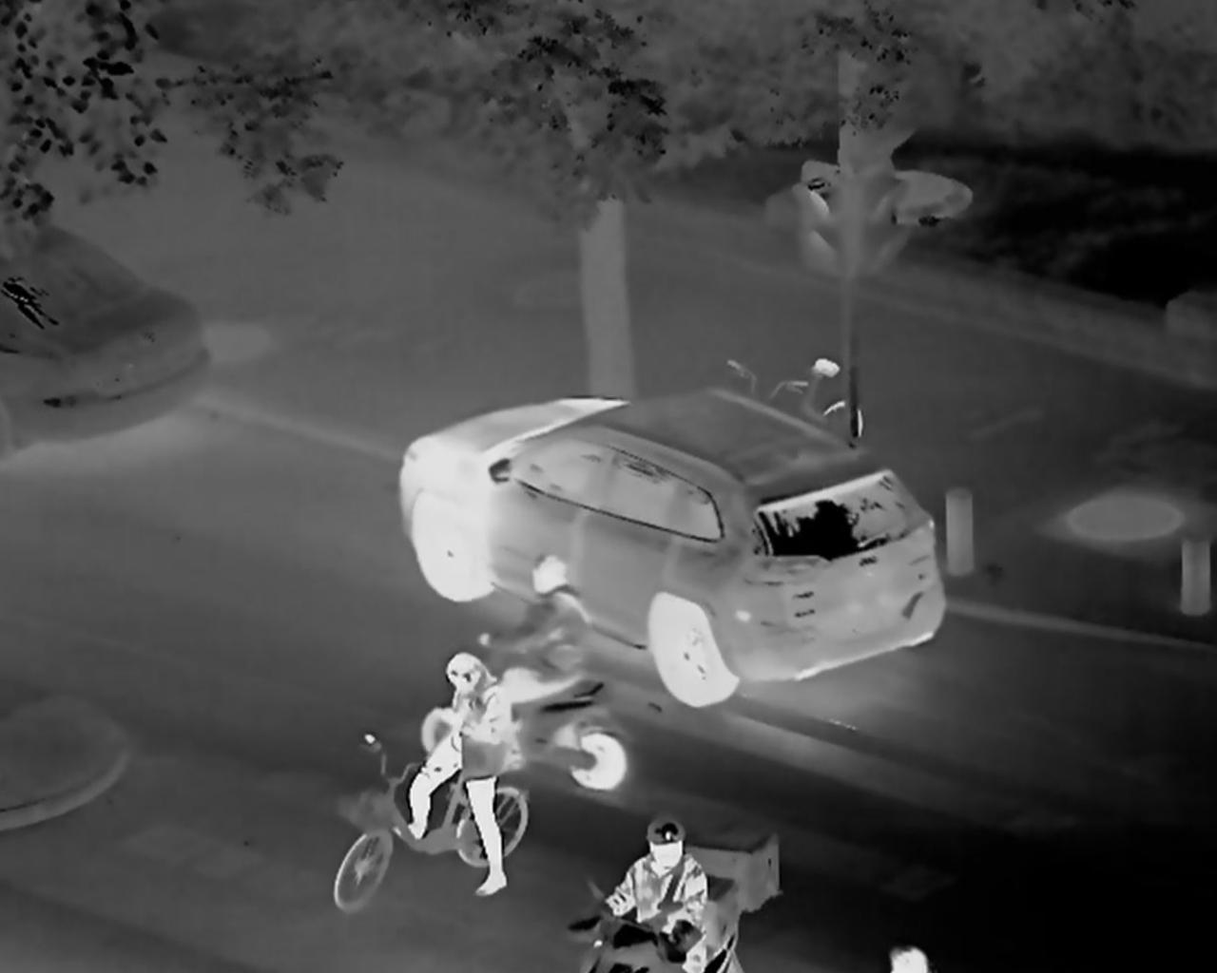person: (398, 655, 510, 900), (475, 555, 596, 761), (585, 818, 705, 973)
